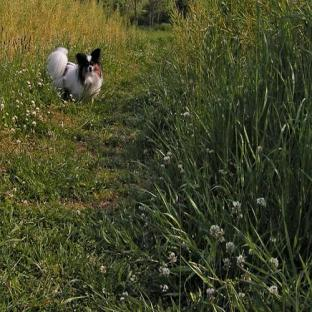Animal: (47, 47, 103, 99)
